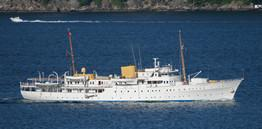youlun: (12, 55, 248, 105)
